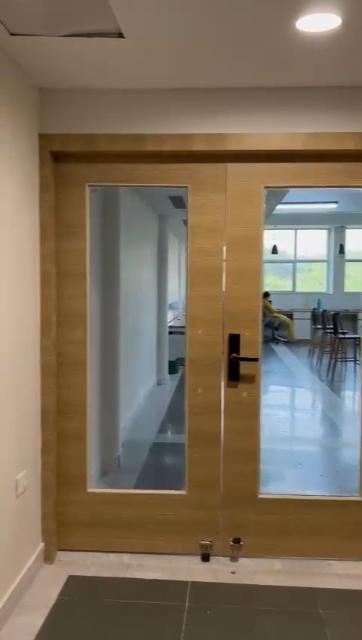door: (38, 129, 356, 549)
floor: (22, 564, 362, 640)
wall: (0, 60, 40, 548)
